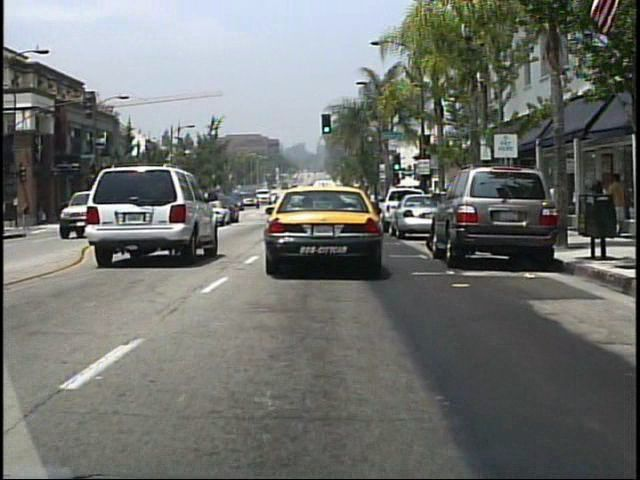person: (594, 181, 614, 241), (610, 171, 630, 213)
